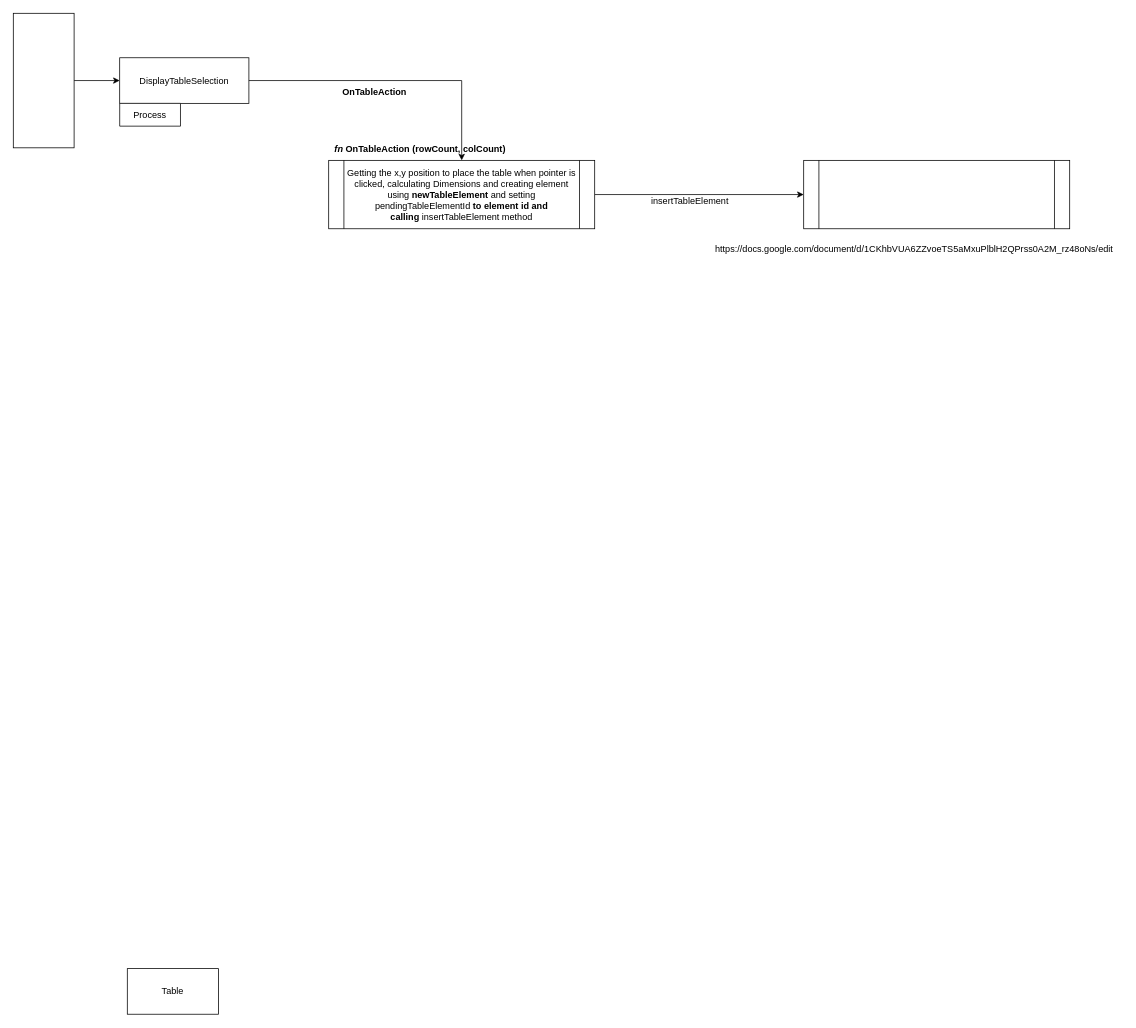
The diagram is 1136 pixels wide and 1028 high, and some of its shapes have lost their labels. Here are the shapes that lost their labels. From the top down, the centre of each, then its label:
point (43, 80): Toolbar Select table
point (936, 194): insertTableElement ( tableElement)
